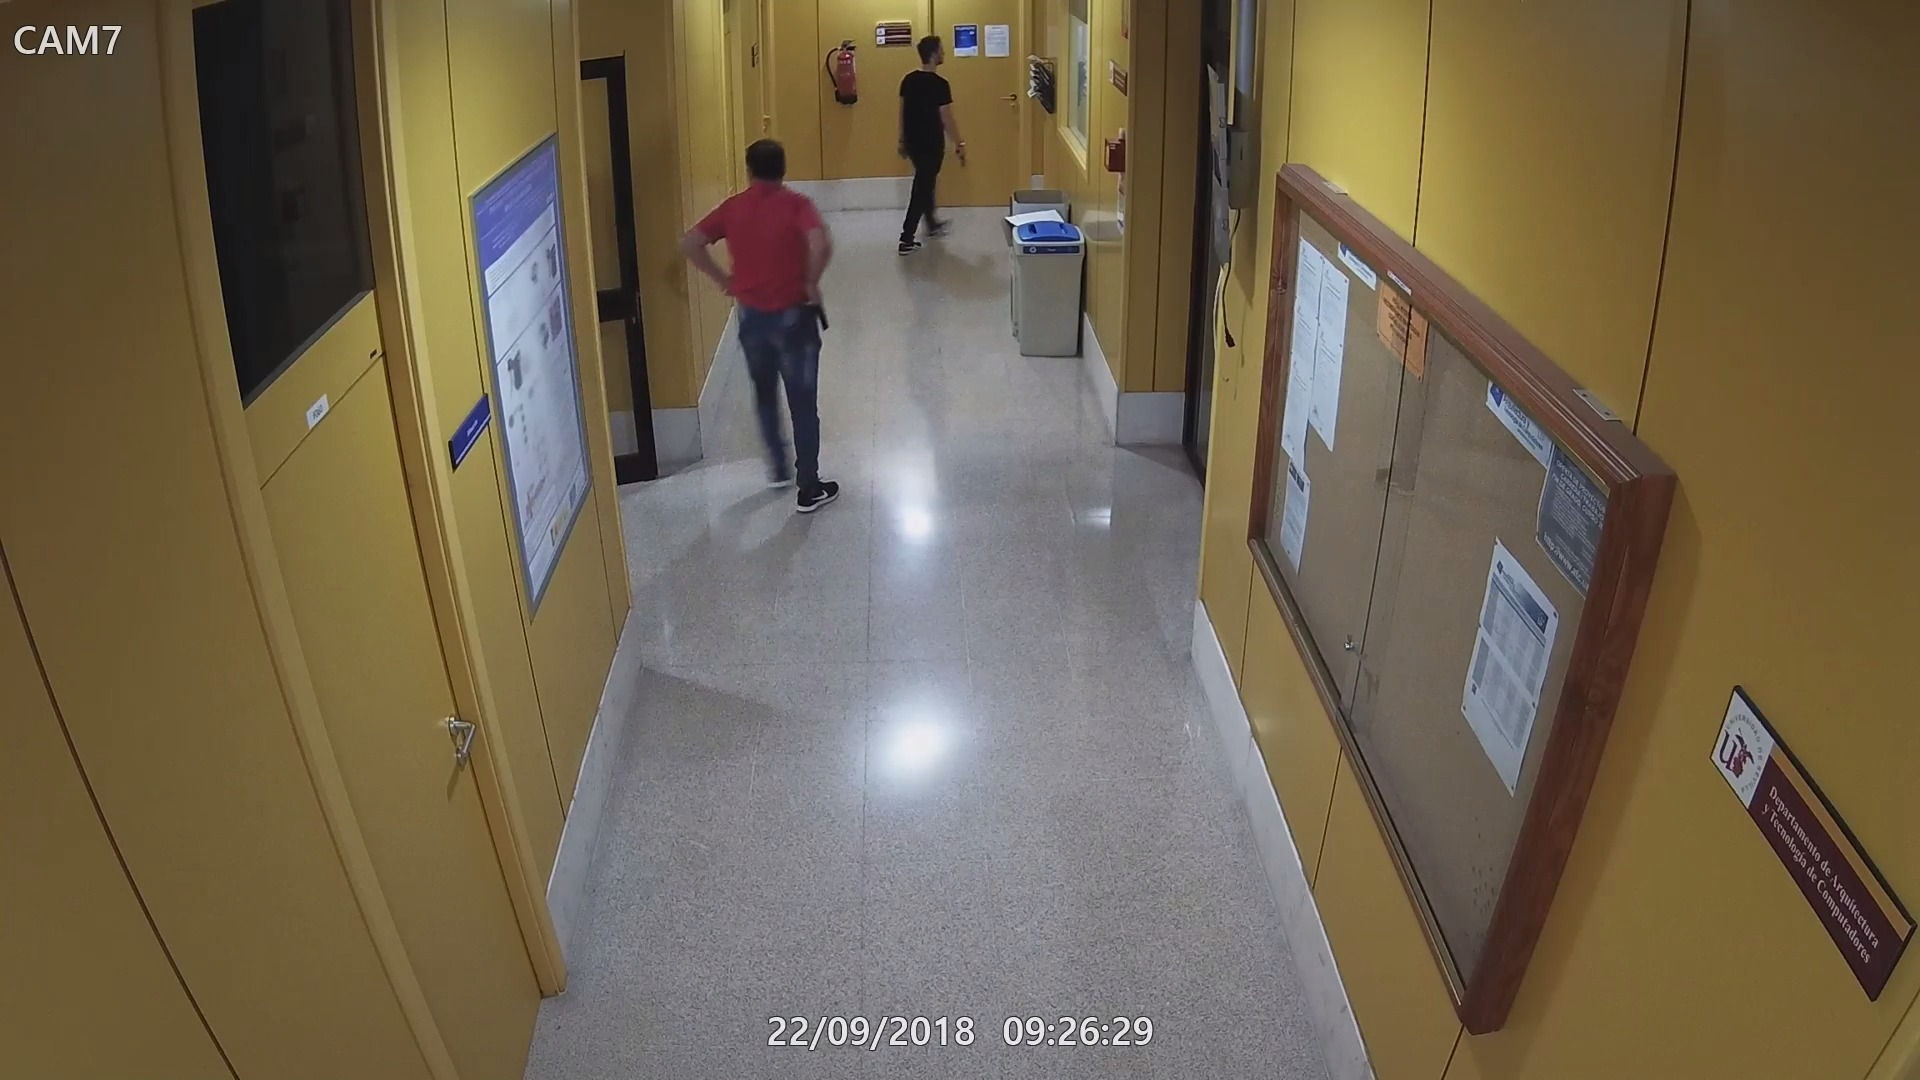Handgun: (803, 294, 831, 331), (947, 141, 973, 167)
